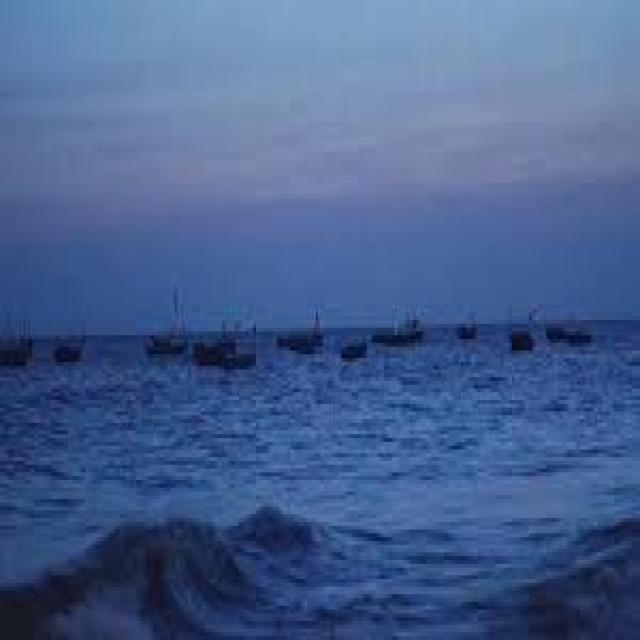fishing boat: (194, 304, 253, 374), (137, 293, 190, 359), (546, 293, 592, 355), (368, 305, 428, 351), (51, 306, 87, 374), (0, 313, 41, 369), (279, 309, 323, 356), (502, 320, 532, 355), (454, 298, 481, 336), (338, 334, 370, 366)
